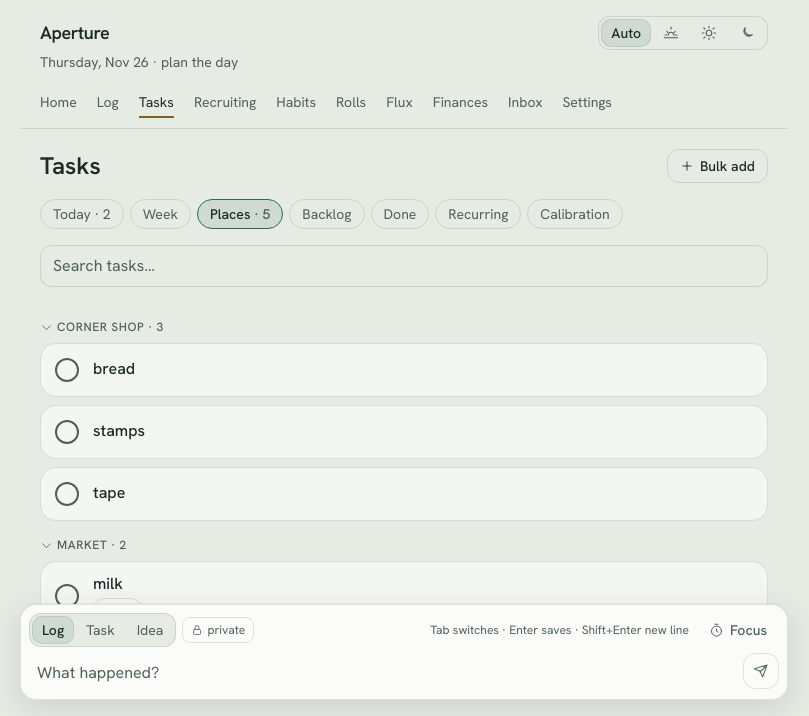
Scenario: Places lens › an errand on today’s plan or started stays on Places too
Expected: the element "Corner Shop" is shown, [40, 319, 768, 521]
Expected: the button "Places · 5" is shown, [197, 199, 283, 229]
What coordinates should you click on to do the following:
click the button "Today · 2"
I would click on:
 (82, 214)
Its box is [40, 199, 124, 229].
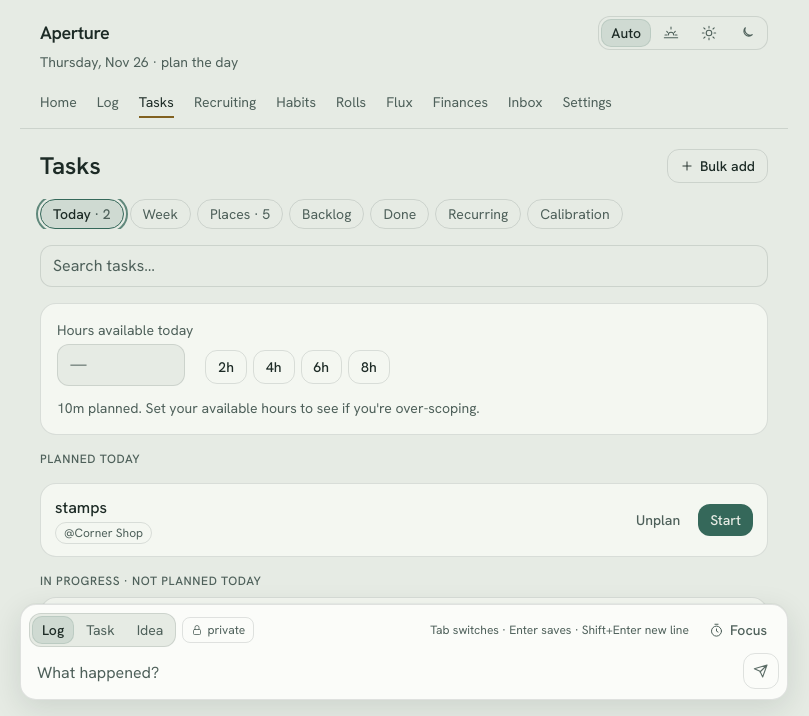
Expected: the text "stamps" is shown, [55, 497, 107, 518]
Expected: the number of elements titled "On the Corner Shop list" is 2, [55, 522, 152, 544]; [55, 636, 152, 658]
